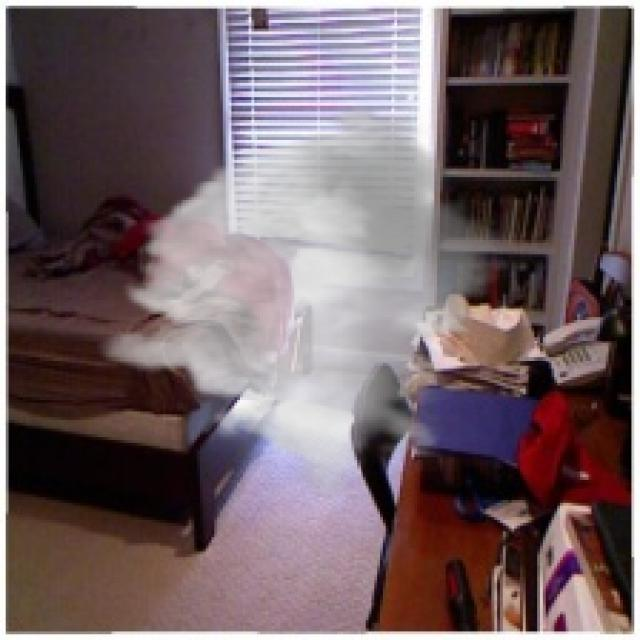smoke: (97, 103, 520, 497)
